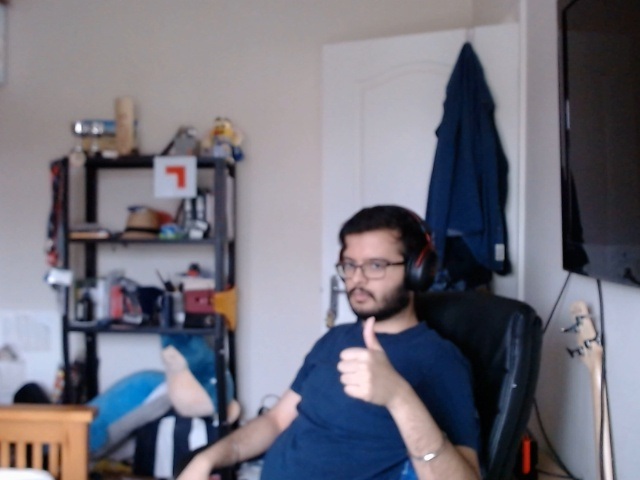Thumbs up: (328, 314, 398, 414)
